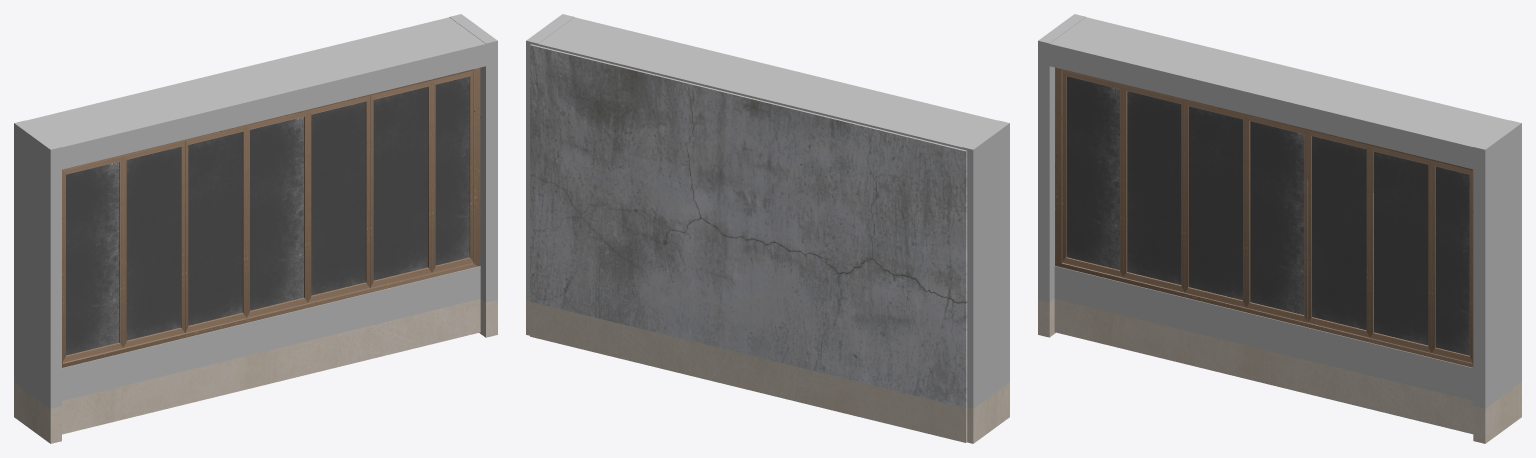
File: shop_f_casual0.fbx
The picture shows the model from 3 angles, left to right: view 1: azimuth 30°, elevation 25°; view 2: azimuth 150°, elevation 25°; view 3: azimuth 330°, elevation 25°; orthographic projection.
Parts seen in each view (by area): view 1: shop_f_casual0; view 2: shop_f_casual0; view 3: shop_f_casual0.
Part boxes in pixels (<box>): shop_f_casual0: <box>14,14,497,443</box>; shop_f_casual0: <box>526,14,1009,443</box>; shop_f_casual0: <box>1038,14,1521,443</box>.
Size of the model in its own units: 5.32 by 3.35 by 0.7774.
